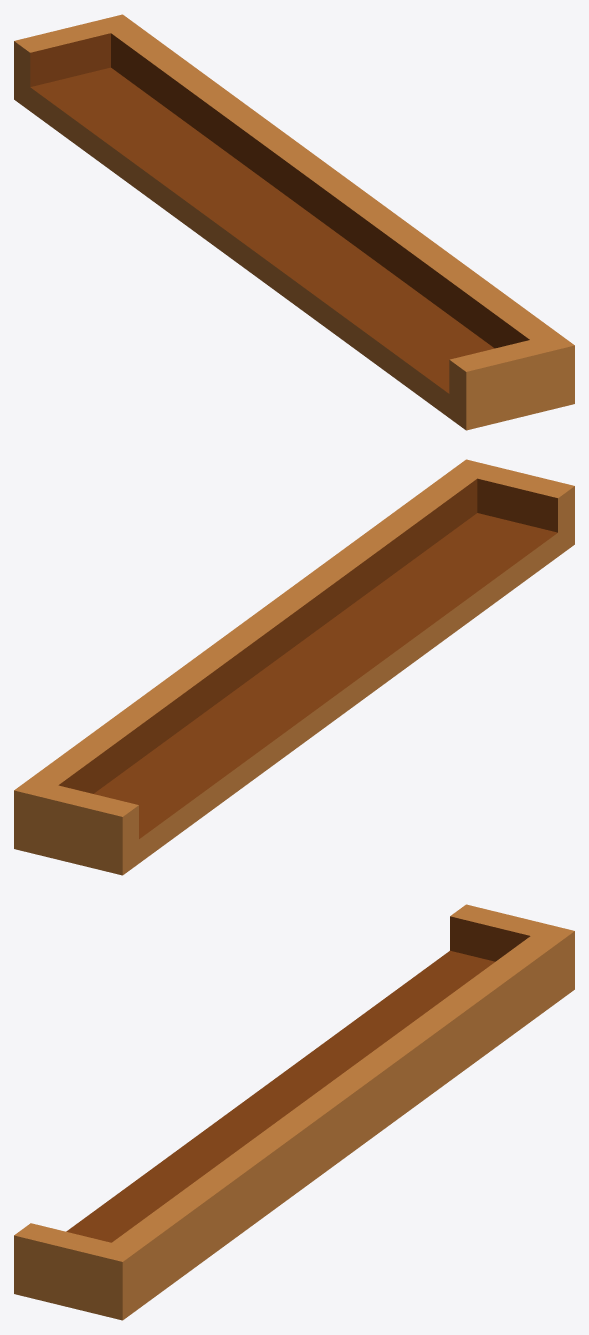
File: Piano body.fbx
3 views of the same model, one above another, from view 1: azimuth 30°, elevation 25°; view 2: azimuth 150°, elevation 25°; view 3: azimuth 330°, elevation 25° (orthographic).
Visible parts, largest first — view 1: polySurface104; view 2: polySurface104; view 3: polySurface104.
Part boxes in pixels (box(x1,y1,x2,y2)): polySurface104: box(14, 14, 574, 430); polySurface104: box(14, 459, 574, 875); polySurface104: box(14, 904, 574, 1320).
Bounding box in the file's own units: 0.1775 × 0.0913 × 1.28.
Materials: 1 (1 with a texture image).
